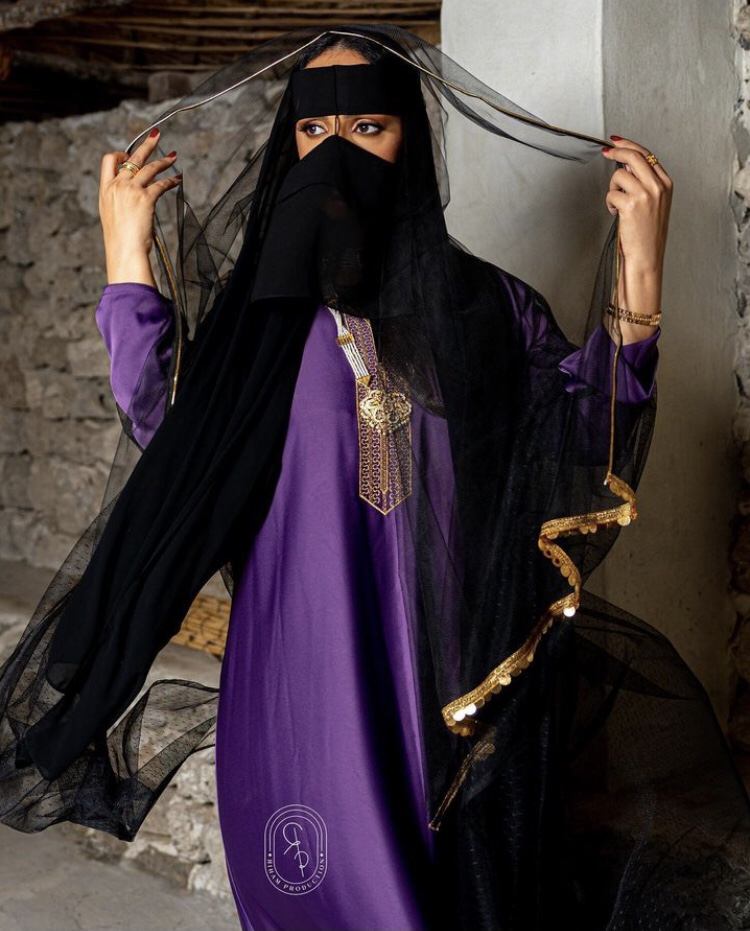Saudi_Founding_Day: (4, 29, 681, 931)
